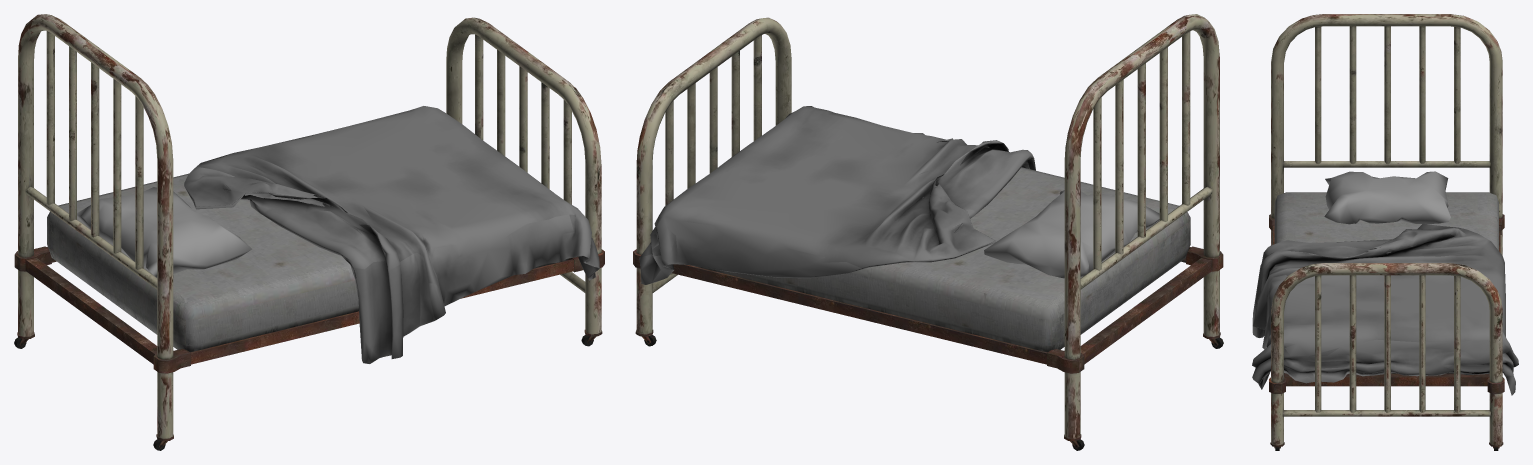
The model's file is v_bed.glb.
3 views of the same model, side by side, from view 1: azimuth 30°, elevation 25°; view 2: azimuth 150°, elevation 25°; view 3: azimuth 270°, elevation 25° (orthographic). The views are drawn at different scales.
Visible parts, largest first — view 1: low_Pillow_1_bed_0, low_Pillow_1_lagen_0, low_Pillow_1_pillow_0; view 2: low_Pillow_1_bed_0, low_Pillow_1_lagen_0, low_Pillow_1_pillow_0; view 3: low_Pillow_1_bed_0, low_Pillow_1_lagen_0, low_Pillow_1_pillow_0.
Part boxes in pixels (x1=…): low_Pillow_1_bed_0: x1=14, y1=14, x2=604, y2=450; low_Pillow_1_lagen_0: x1=184, y1=106, x2=599, y2=363; low_Pillow_1_pillow_0: x1=77, y1=187, x2=251, y2=277; low_Pillow_1_bed_0: x1=633, y1=14, x2=1223, y2=450; low_Pillow_1_lagen_0: x1=639, y1=106, x2=1035, y2=284; low_Pillow_1_pillow_0: x1=984, y1=190, x2=1159, y2=278; low_Pillow_1_bed_0: x1=1269, y1=14, x2=1504, y2=450; low_Pillow_1_lagen_0: x1=1252, y1=223, x2=1518, y2=395; low_Pillow_1_pillow_0: x1=1324, y1=171, x2=1450, y2=224.
Size of the model in its own units: 187 by 139 by 123.
Materials: 3 (2 with a texture image).
